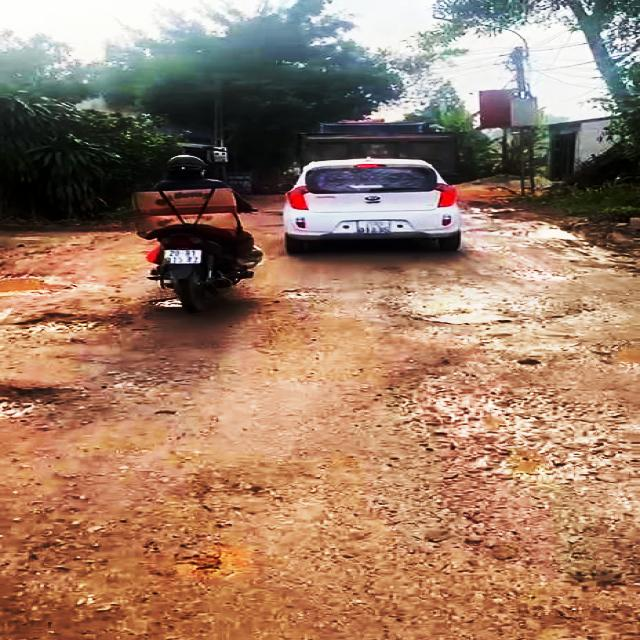pothole: (394, 374, 640, 481), (393, 302, 597, 327), (0, 380, 112, 415), (12, 314, 132, 337), (0, 271, 76, 298)
